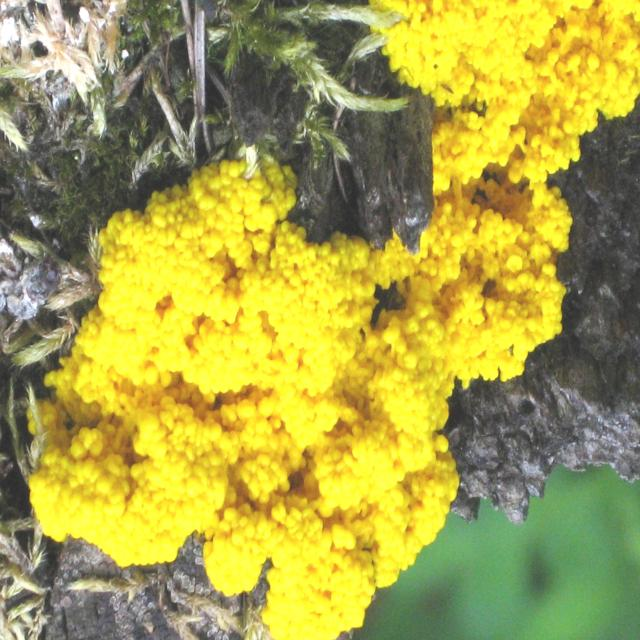Dog_vomit_slime_mold: (37, 8, 640, 640)
